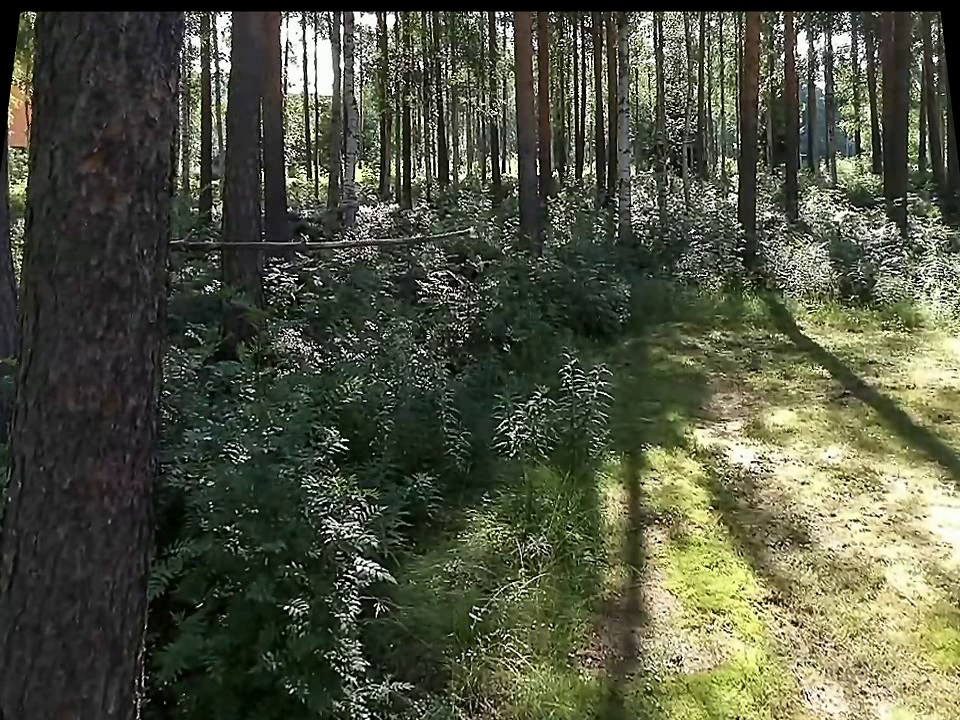branch: (173, 219, 466, 256)
